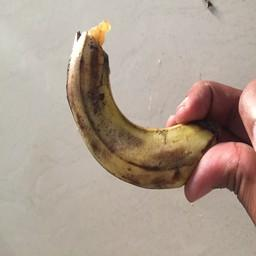Bad_banana: (64, 15, 214, 205)
